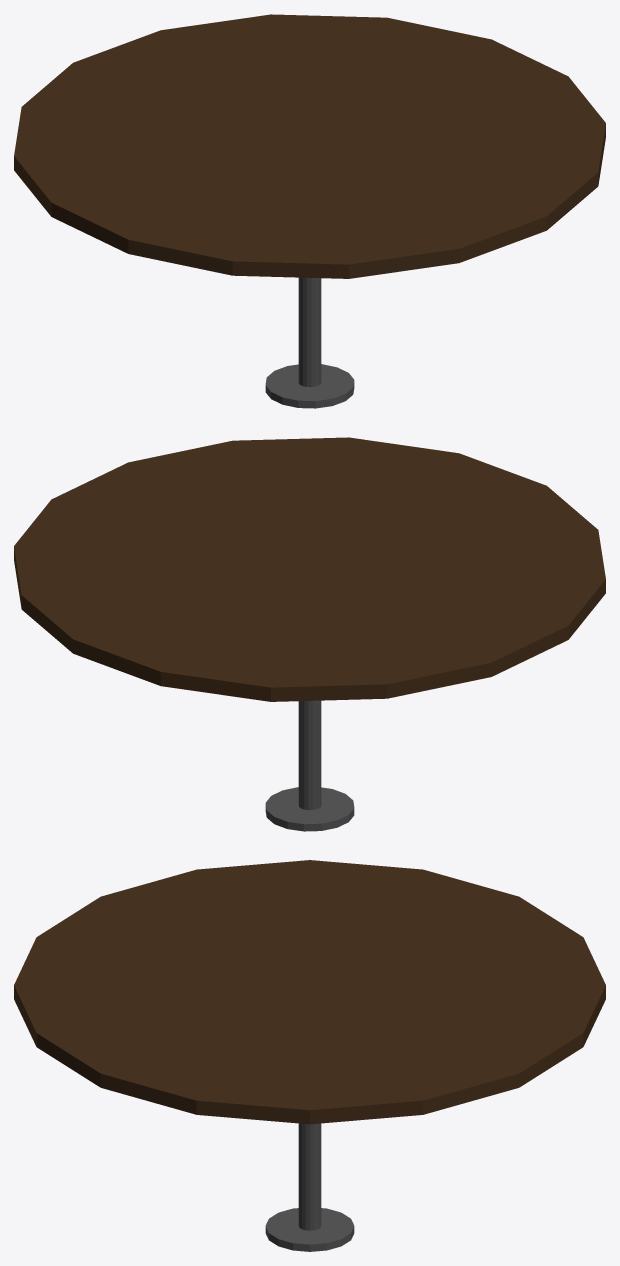
Rendered from CircleTable.fbx.
3 views of the same model, one above another, from view 1: azimuth 30°, elevation 25°; view 2: azimuth 150°, elevation 25°; view 3: azimuth 270°, elevation 25° (orthographic).
Parts seen in each view (by area): view 1: CircleTable; view 2: CircleTable; view 3: CircleTable.
Boxes of the visible parts, x1,y1,x2,y2 form: CircleTable: (14,14,605,408); CircleTable: (14,437,605,831); CircleTable: (14,860,605,1251).
Size of the model in its own units: 114 by 52.75 by 114.
